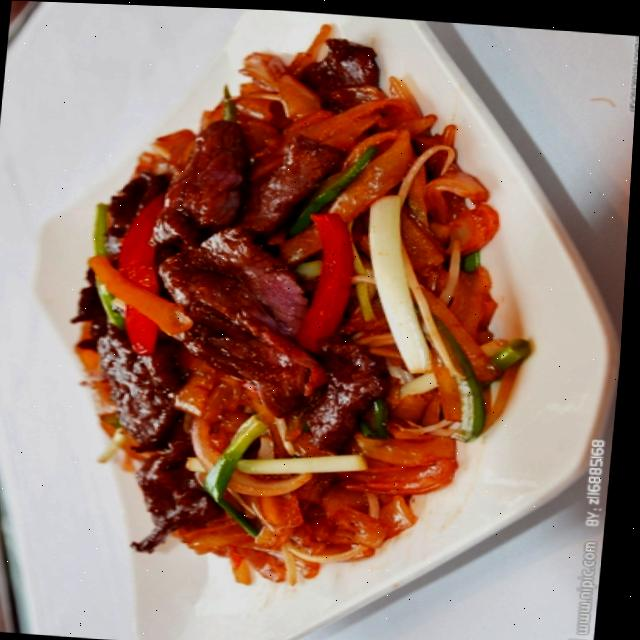面条主食: (49, 15, 541, 601)
